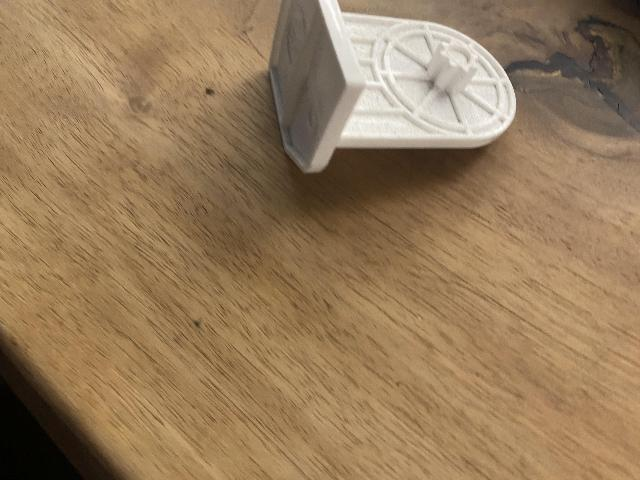Plastik: (256, 0, 524, 176)
